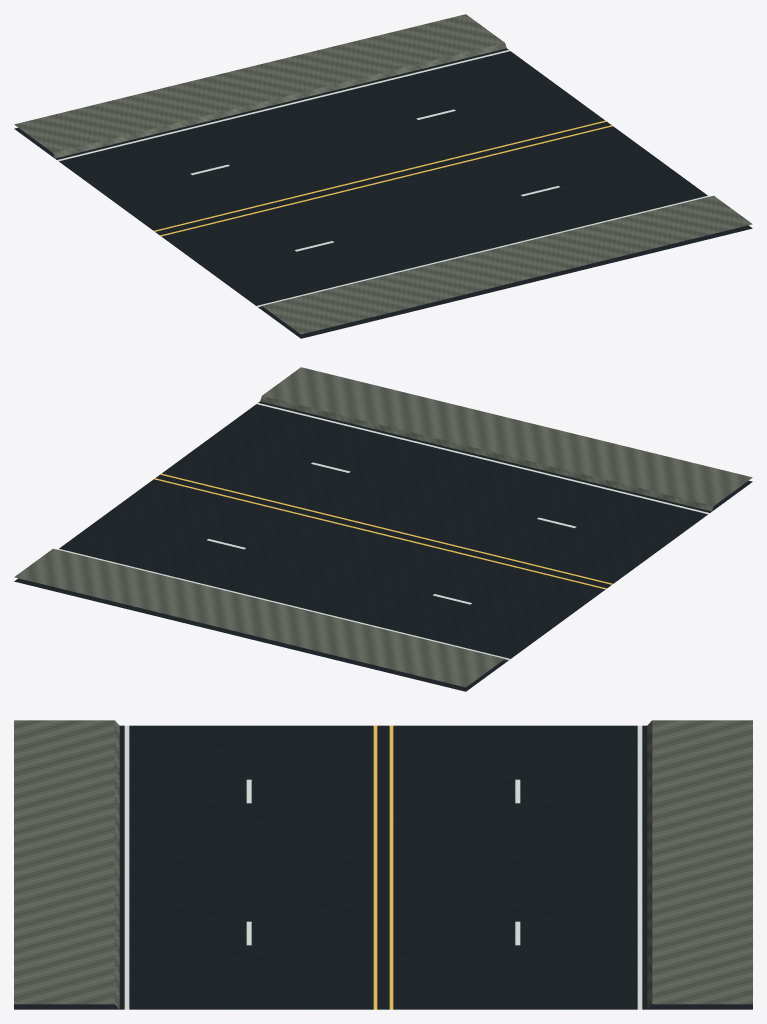
Rendered from road_collector_4lane_16m_LOD1.glb.
3 renders of one model, top to bottom at view 1: azimuth 30°, elevation 25°; view 2: azimuth 150°, elevation 25°; view 3: azimuth 270°, elevation 25°, orthographic. The views are drawn at different scales.
Parts seen in each view (by area): view 1: road_collector_4lane_16m__surface.001, road_collector_4lane_16m__markings.001; view 2: road_collector_4lane_16m__surface.001, road_collector_4lane_16m__markings.001; view 3: road_collector_4lane_16m__surface.001, road_collector_4lane_16m__markings.001.
Boxes of the visible parts, <box> form: road_collector_4lane_16m__surface.001: <box>14,14,752,338</box>; road_collector_4lane_16m__markings.001: <box>57,50,708,306</box>; road_collector_4lane_16m__surface.001: <box>14,367,752,691</box>; road_collector_4lane_16m__markings.001: <box>58,403,709,659</box>; road_collector_4lane_16m__surface.001: <box>14,720,752,1009</box>; road_collector_4lane_16m__markings.001: <box>124,725,642,1009</box>.
Size of the model in its own units: 16 by 0.145 by 17.6.
Materials: 5 (3 with a texture image).
